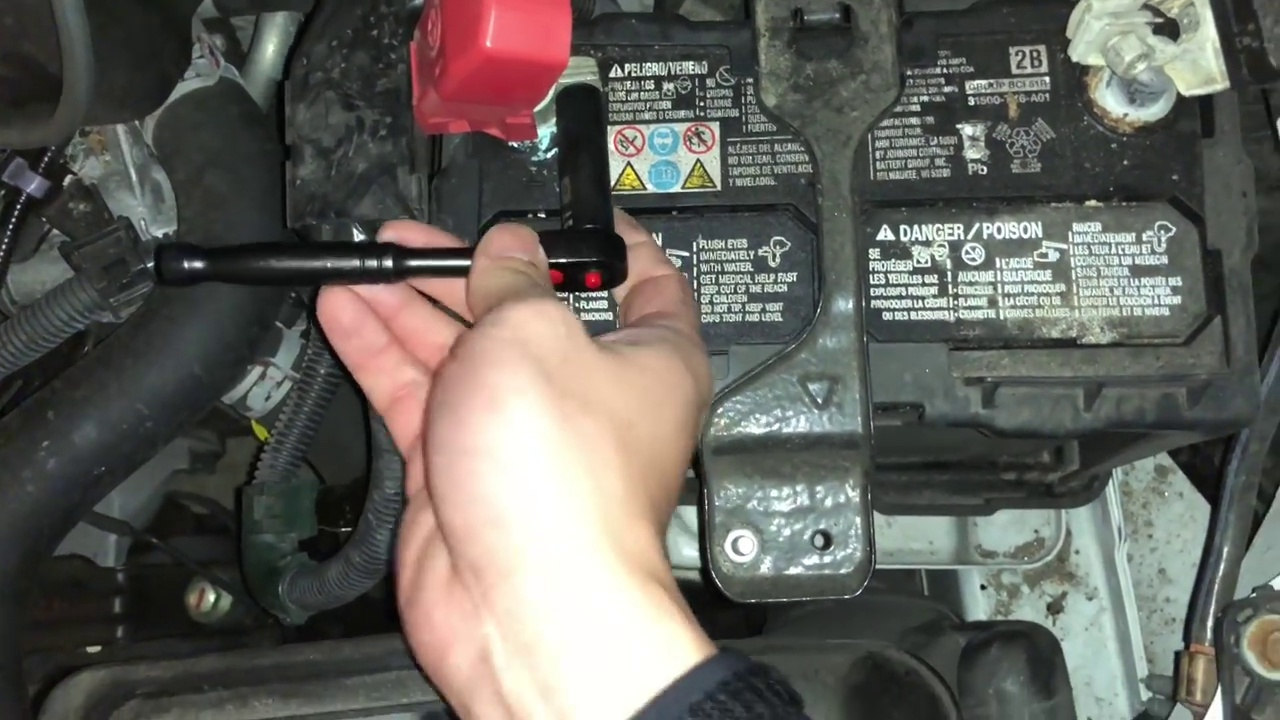battery: (403, 2, 1244, 466)
neg_connected: (1032, 8, 1227, 142)
neg_touched: (397, 1, 698, 448)
